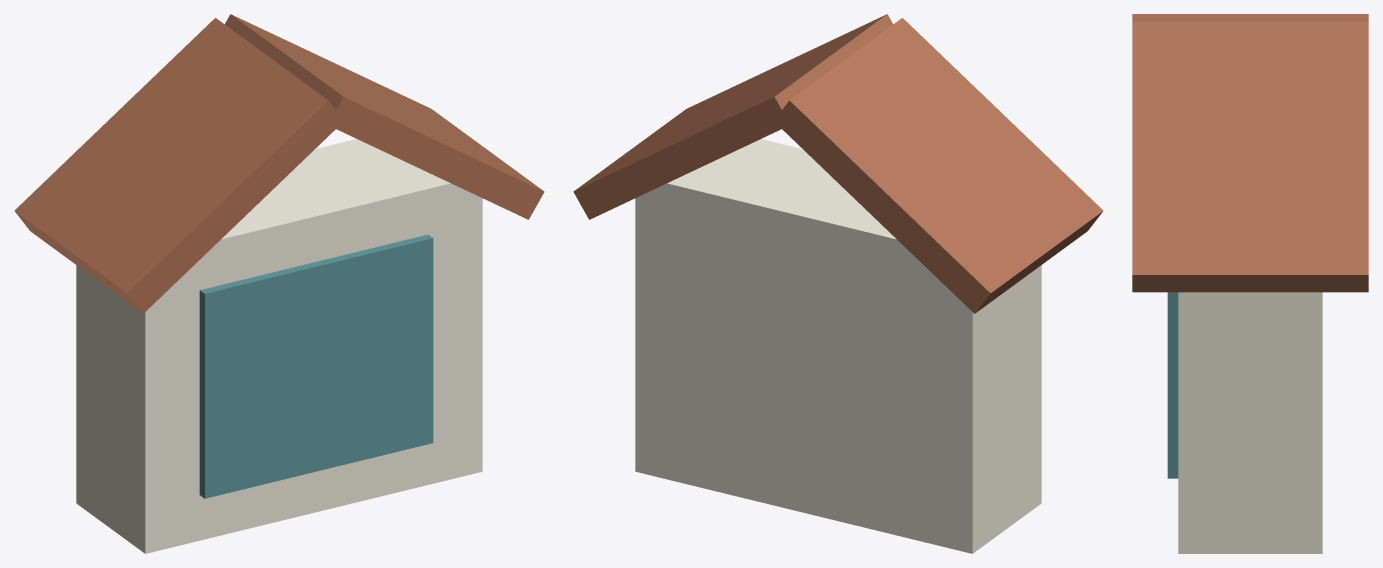
The model's file is dormer.glb.
3 views of the same model, side by side, from view 1: azimuth 30°, elevation 25°; view 2: azimuth 150°, elevation 25°; view 3: azimuth 270°, elevation 25° (orthographic). The views are drawn at different scales.
Parts seen in each view (by area): view 1: Dormer face, Dormer glazing, Dormer roof, Dormer roof.001; view 2: Dormer face, Dormer roof, Dormer roof.001; view 3: Dormer roof.001, Dormer face, Dormer glazing, Dormer roof.
Part boxes in pixels (x1=…): Dormer face: x1=76, y1=139, x2=482, y2=553; Dormer glazing: x1=199, y1=234, x2=433, y2=498; Dormer roof: x1=14, y1=18, x2=343, y2=313; Dormer roof.001: x1=224, y1=14, x2=544, y2=219; Dormer face: x1=635, y1=139, x2=1041, y2=553; Dormer roof: x1=774, y1=18, x2=1103, y2=313; Dormer roof.001: x1=573, y1=14, x2=893, y2=219; Dormer roof.001: x1=1132, y1=21, x2=1368, y2=292; Dormer face: x1=1178, y1=292, x2=1322, y2=553; Dormer glazing: x1=1167, y1=292, x2=1178, y2=478; Dormer roof: x1=1132, y1=14, x2=1368, y2=21.
Bounding box in the file's own units: 1.92 × 1.89 × 0.9.
